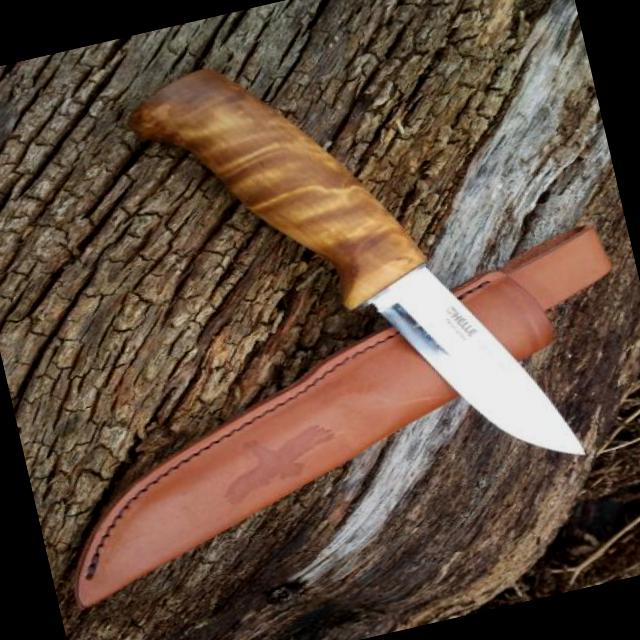knife: (334, 190, 604, 510)
